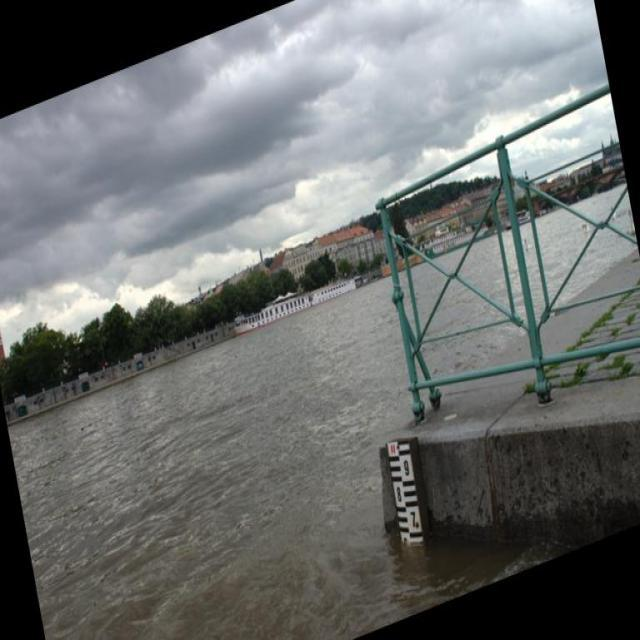flood: (4, 248, 453, 639)
